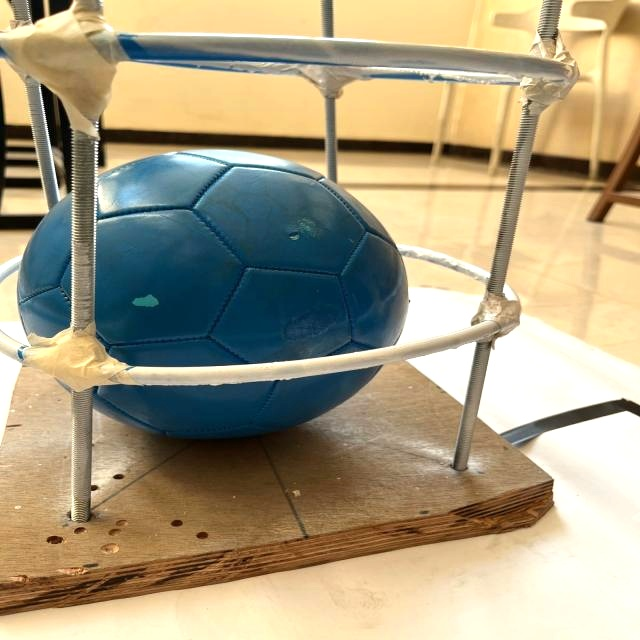blue_ball: (18, 131, 456, 483)
silo: (0, 0, 598, 601)
